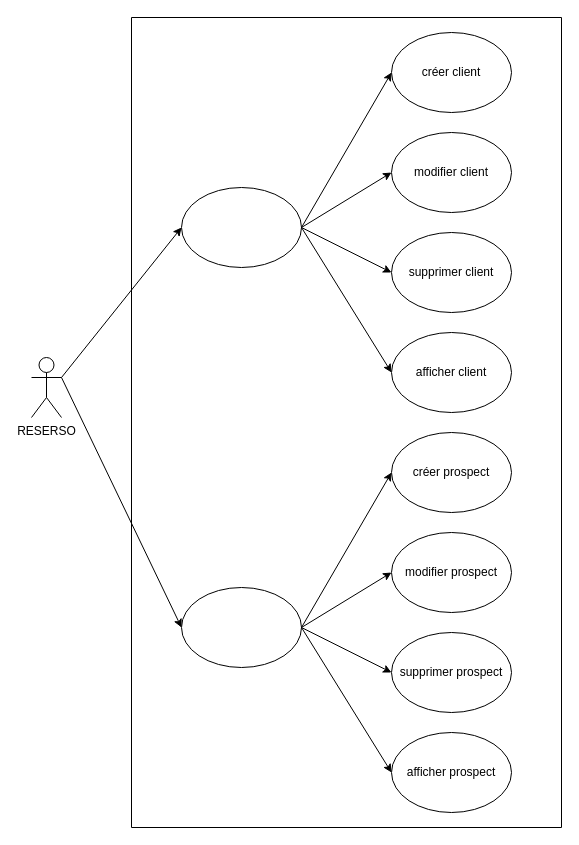
Some shapes in this 579 by 845 pixel diagram are drawn without their labels. Here are the shapes that lost their labels. From the top down, the box of each, then its label:
(180, 186, 302, 268): Choisir Client
(180, 586, 302, 668): Choisir Prospect
